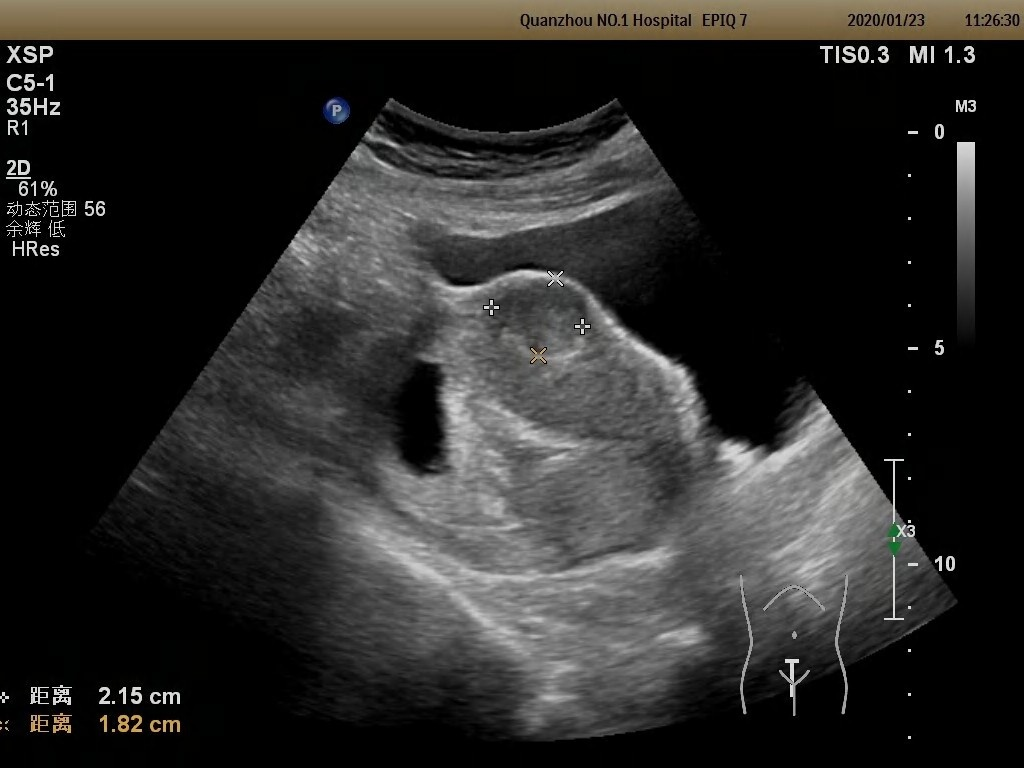肌瘤: (496, 281, 587, 354)
